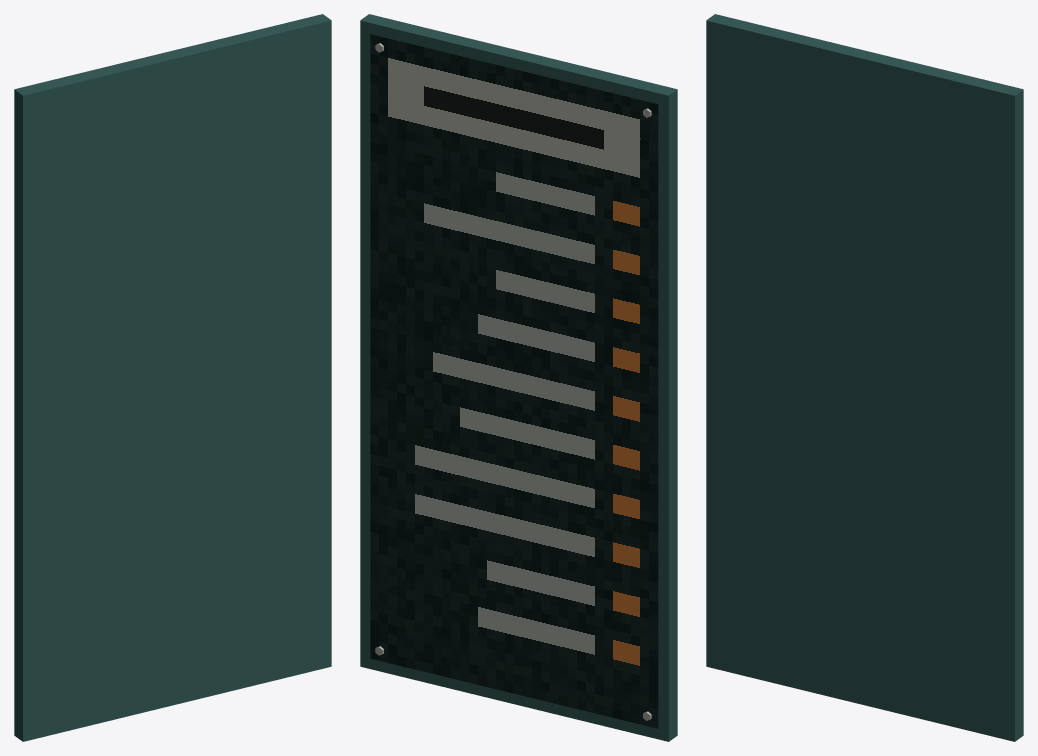
Rendered from signboard.fbx.
The picture shows the model from 3 angles, left to right: view 1: azimuth 30°, elevation 25°; view 2: azimuth 150°, elevation 25°; view 3: azimuth 330°, elevation 25°; orthographic projection.
Visible parts, largest first — view 1: signboard; view 2: signboard; view 3: signboard.
Boxes of the visible parts, x1=… form: signboard: x1=14, y1=14, x2=331, y2=741; signboard: x1=360, y1=14, x2=677, y2=741; signboard: x1=706, y1=14, x2=1023, y2=741.
Size of the model in its own units: 0.6 by 1.2 by 0.036.
